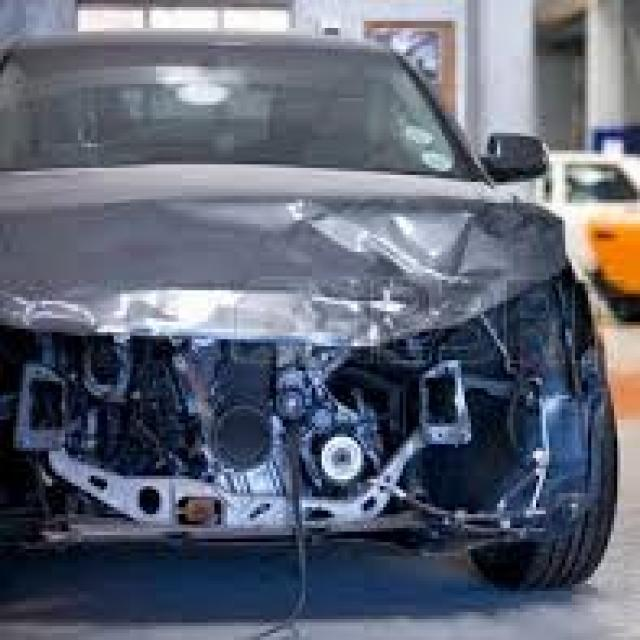moderate: (0, 194, 640, 539)
